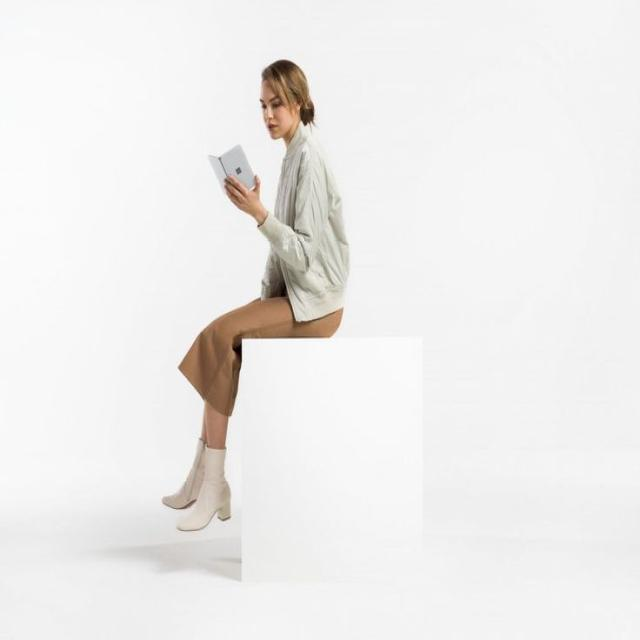person: (161, 58, 349, 531)
